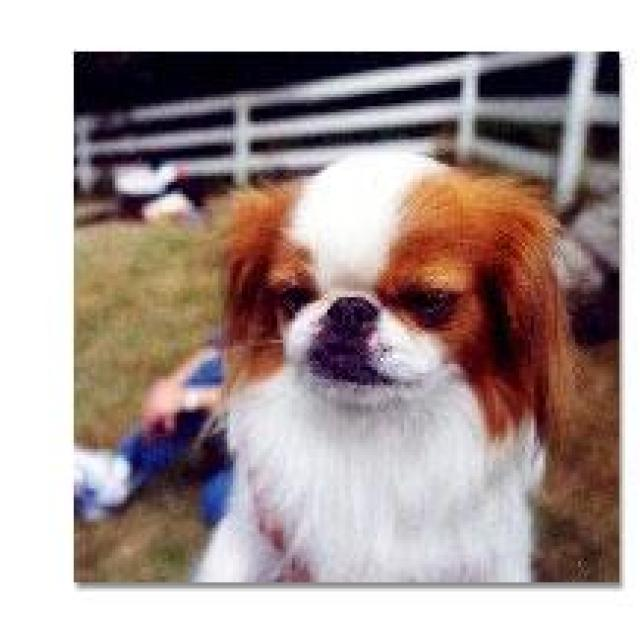husky: (189, 152, 593, 585)
